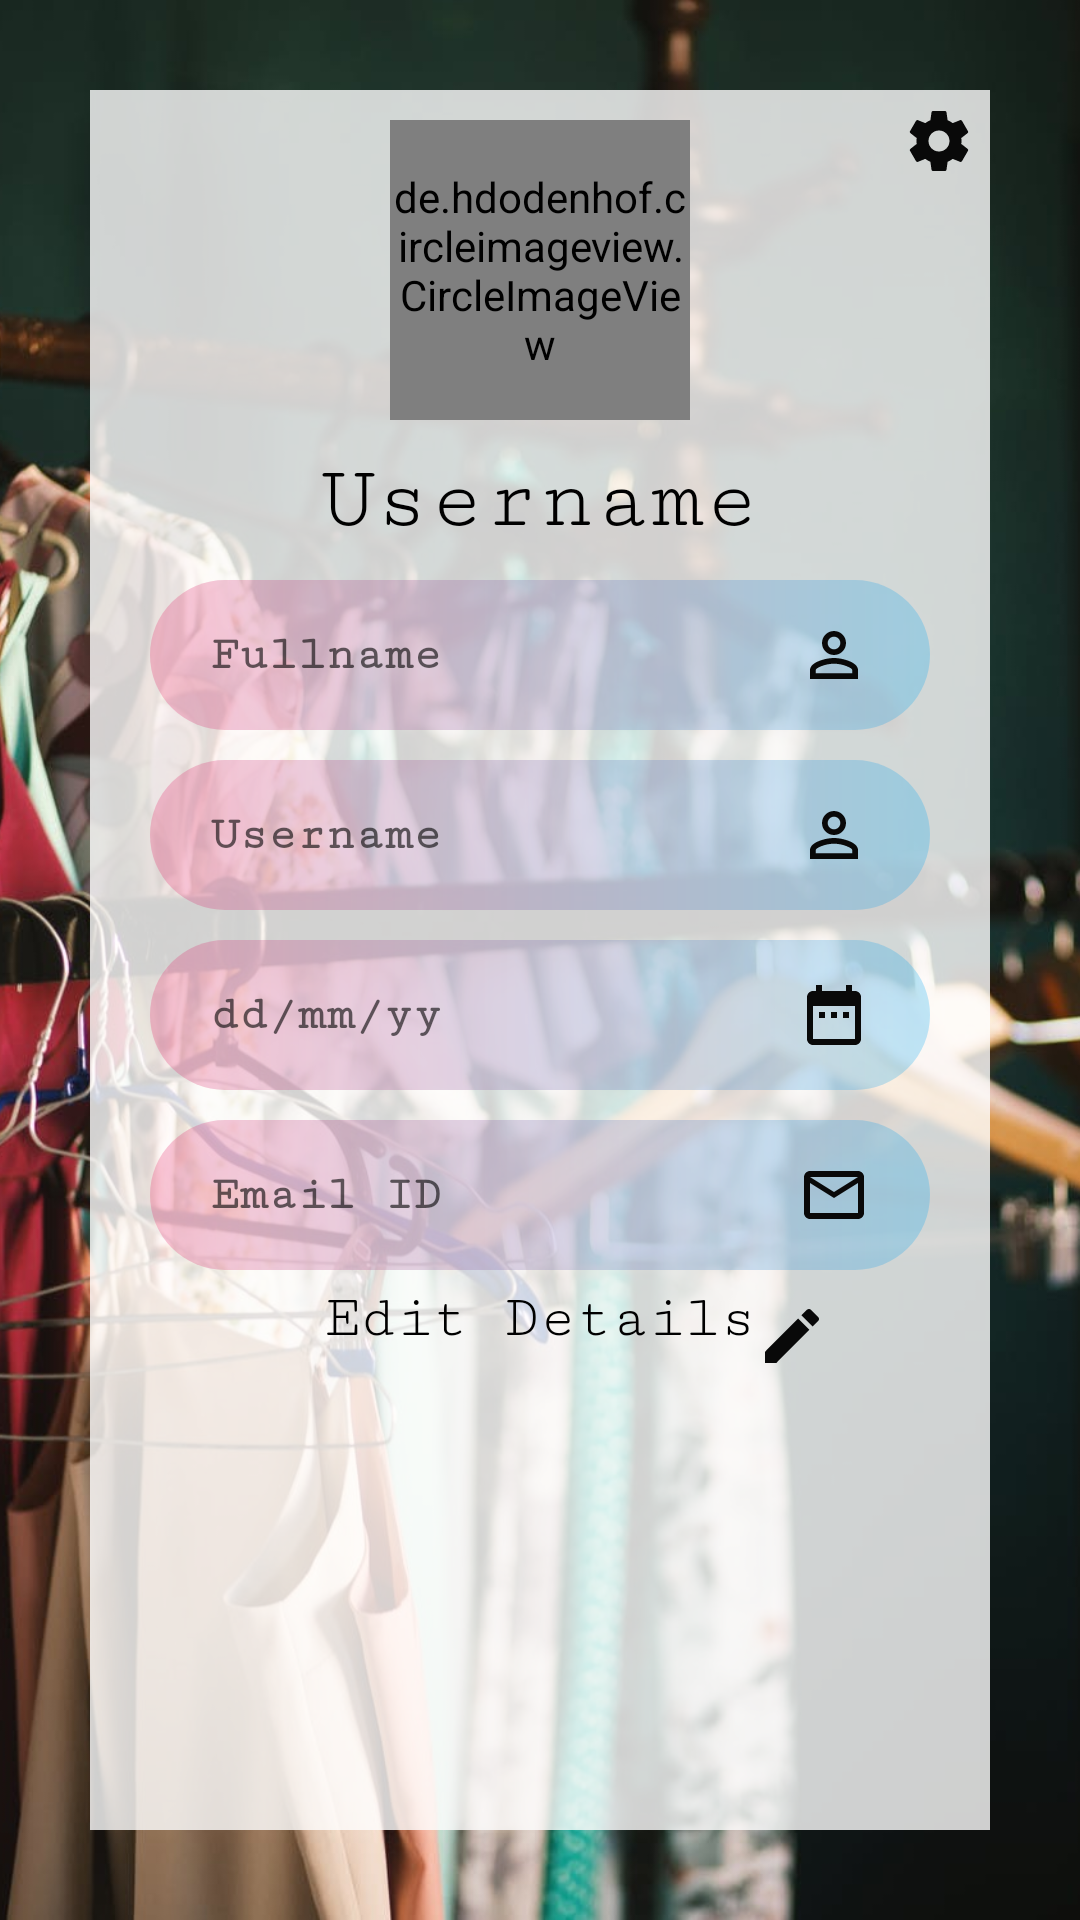

Point at icon controls on the screen. Image size 1080 x 1920, points as [x,y].
dob: [834,1015]
settings: [938,141]
